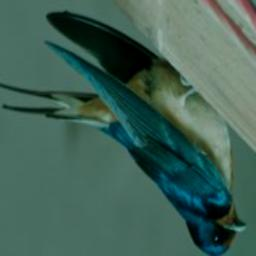Swallow: (0, 9, 247, 256)
